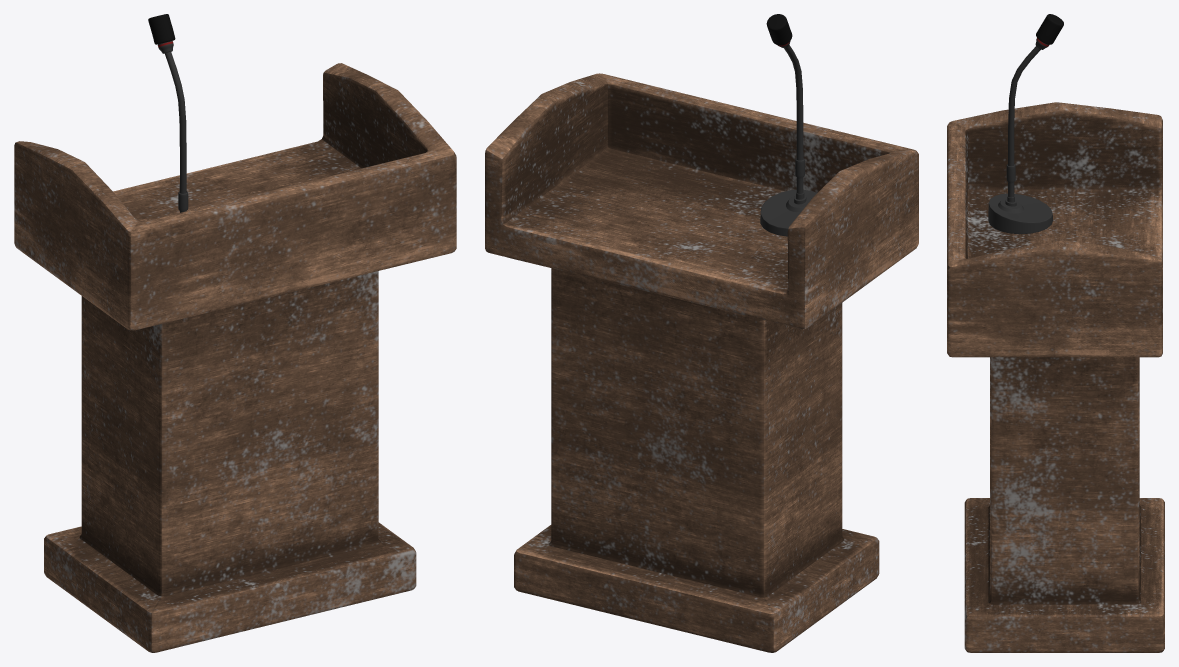
The model's file is M_Podium.fbx.
The picture shows the model from 3 angles, left to right: view 1: azimuth 30°, elevation 25°; view 2: azimuth 150°, elevation 25°; view 3: azimuth 270°, elevation 25°; orthographic projection. The views are drawn at different scales.
Visible parts, largest first — view 1: broadcastroom_podium_GEO, mic_GEO; view 2: broadcastroom_podium_GEO, mic_GEO; view 3: broadcastroom_podium_GEO, mic_GEO.
Boxes of the visible parts, x1,y1,x2,y2 form: broadcastroom_podium_GEO: [14, 63, 456, 652]; mic_GEO: [148, 14, 188, 212]; broadcastroom_podium_GEO: [485, 73, 918, 652]; mic_GEO: [760, 14, 816, 236]; broadcastroom_podium_GEO: [947, 102, 1164, 652]; mic_GEO: [988, 14, 1063, 234].
Size of the model in its own units: 45.61 by 78.69 by 28.53.
Materials: 2 (2 with a texture image).
